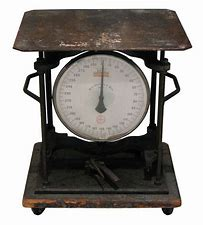Industrial Scale: (12, 7, 193, 217)
